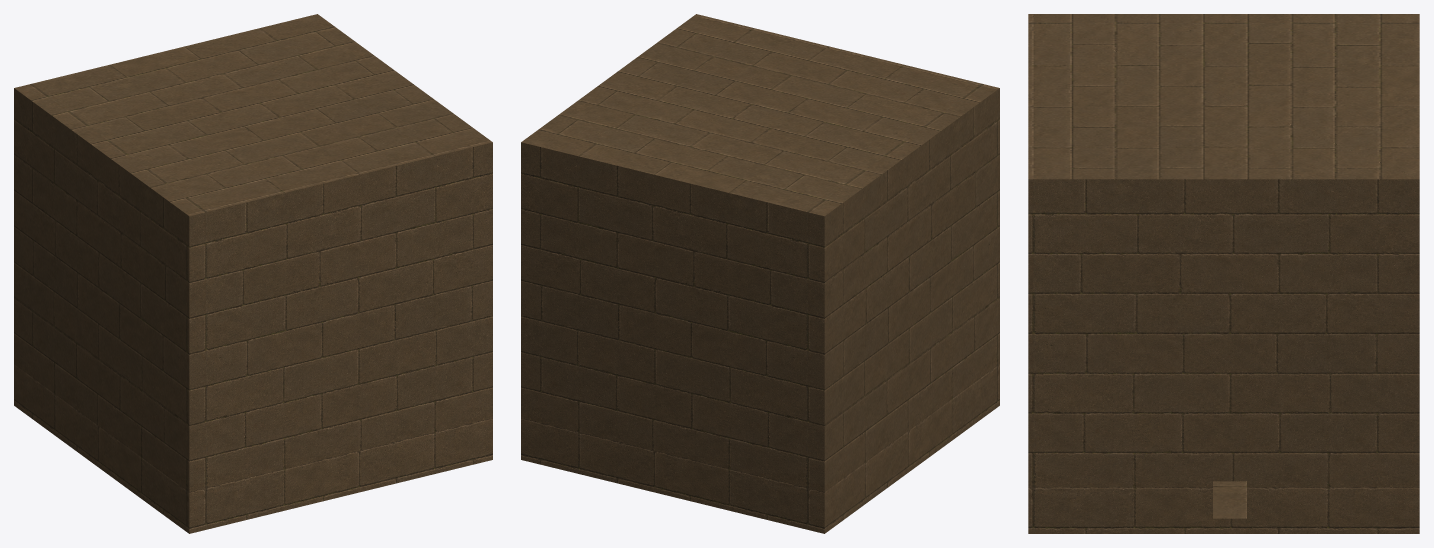
File: temple_innertop_elevator_fullshaft.fbx
3 views of the same model, side by side, from view 1: azimuth 30°, elevation 25°; view 2: azimuth 150°, elevation 25°; view 3: azimuth 270°, elevation 25° (orthographic). The views are drawn at different scales.
Visible parts, largest first — view 1: floor; view 2: floor; view 3: floor.
Boxes of the visible parts, x1,y1,x2,y2 form: floor: (14, 14, 492, 533); floor: (521, 14, 999, 533); floor: (1028, 14, 1419, 533).
Bounding box in the file's own units: 200 × 200 × 200.
